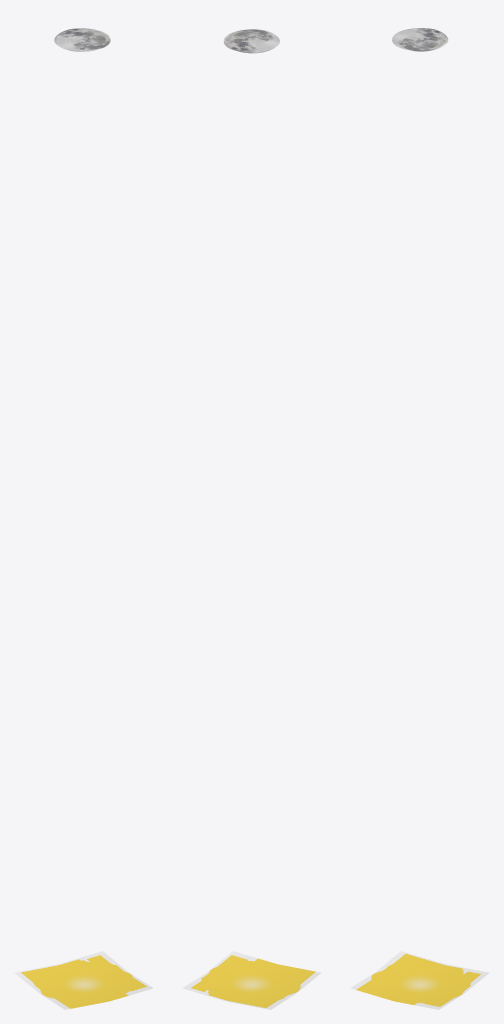
File: sky_DayNight_sunmoon.fbx
3 views of the same model, side by side, from view 1: azimuth 30°, elevation 25°; view 2: azimuth 150°, elevation 25°; view 3: azimuth 330°, elevation 25° (orthographic).
Visible parts, largest first — view 1: sky_DayNight_sunmoon; view 2: sky_DayNight_sunmoon; view 3: sky_DayNight_sunmoon.
Part boxes in pixels (box(x1,y1,x2,y2)): sky_DayNight_sunmoon: box(14, 28, 153, 1009); sky_DayNight_sunmoon: box(182, 29, 321, 1009); sky_DayNight_sunmoon: box(350, 28, 489, 1009).
Size of the model in its own units: 24.25 by 247 by 24.14.
2 materials, 2 textured.
